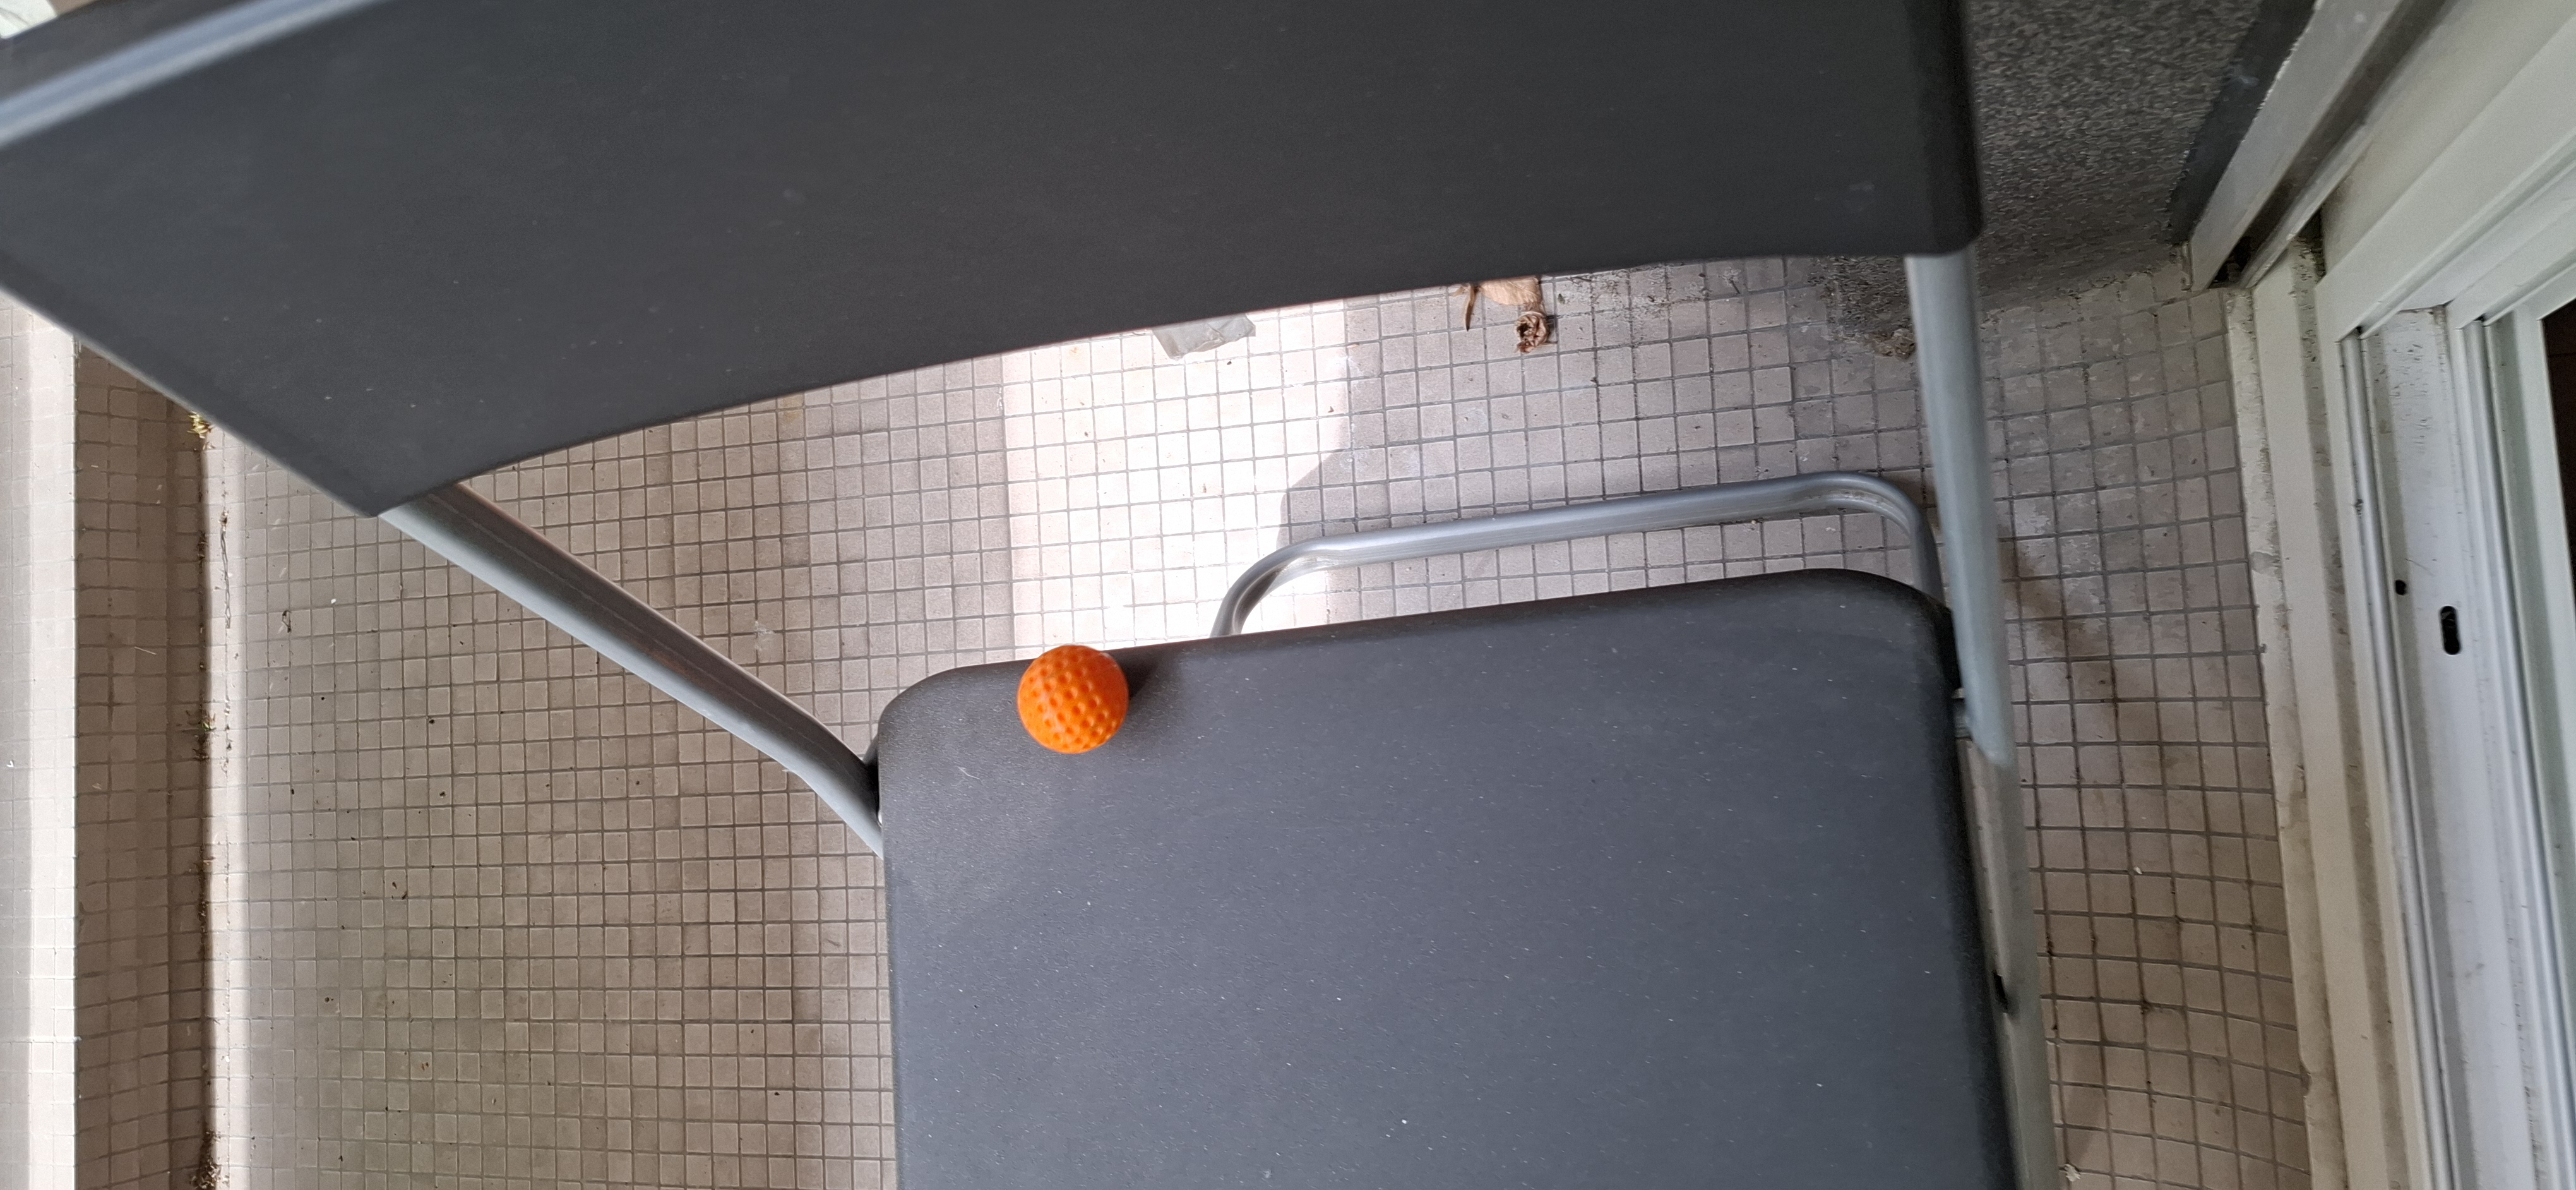ball: (1017, 646, 1125, 753)
